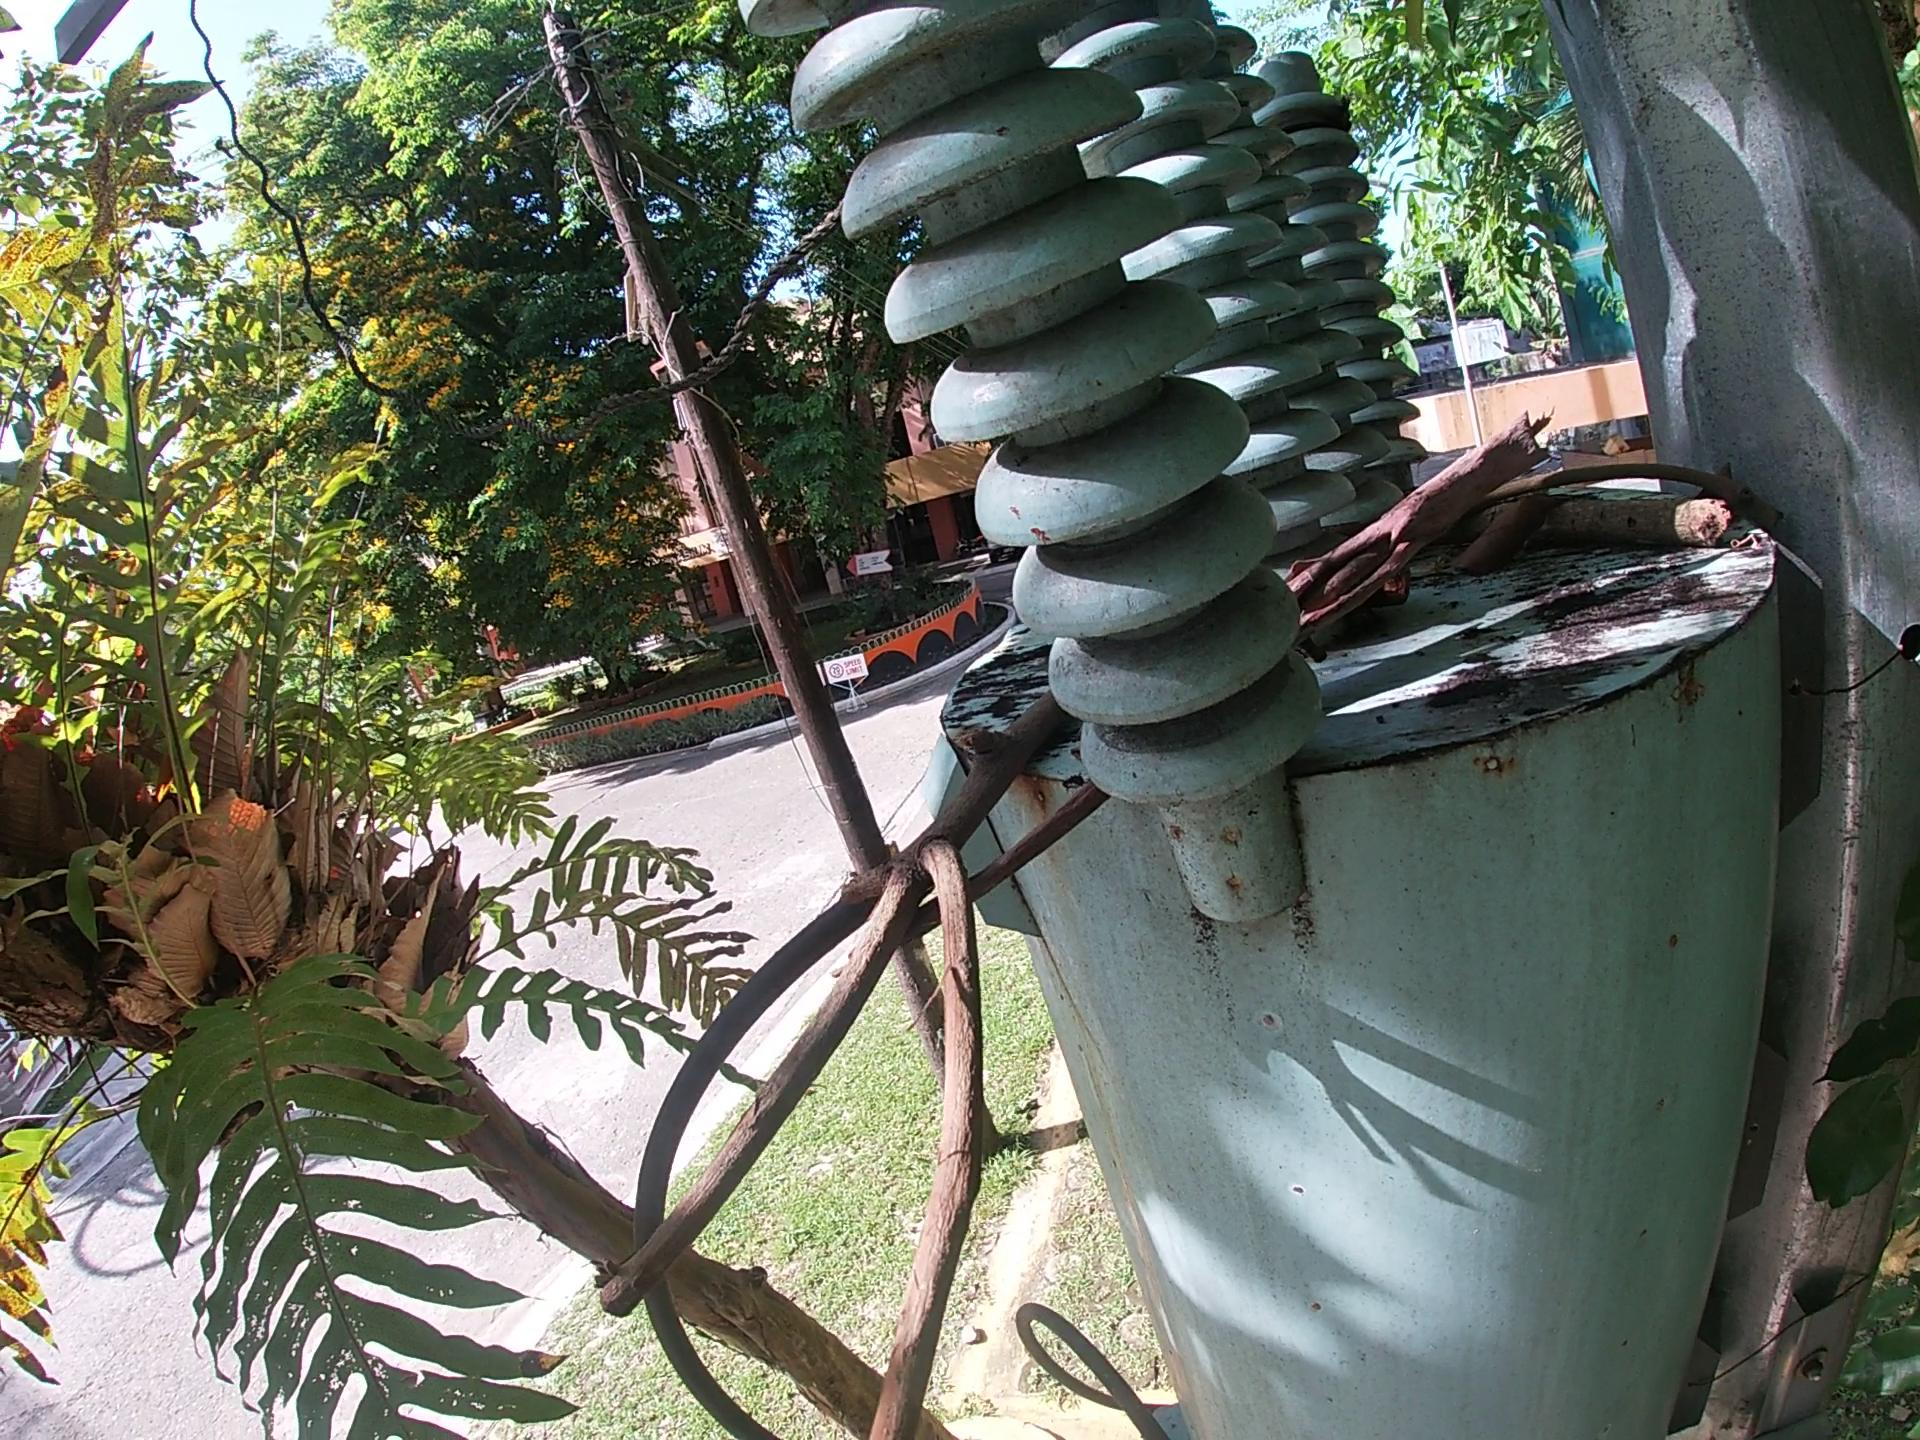leaf: (1438, 483, 1587, 585)
tree branch: (579, 690, 1078, 1440), (1288, 404, 1556, 655), (898, 774, 1107, 948), (1483, 458, 1788, 525), (1471, 487, 1728, 551)
